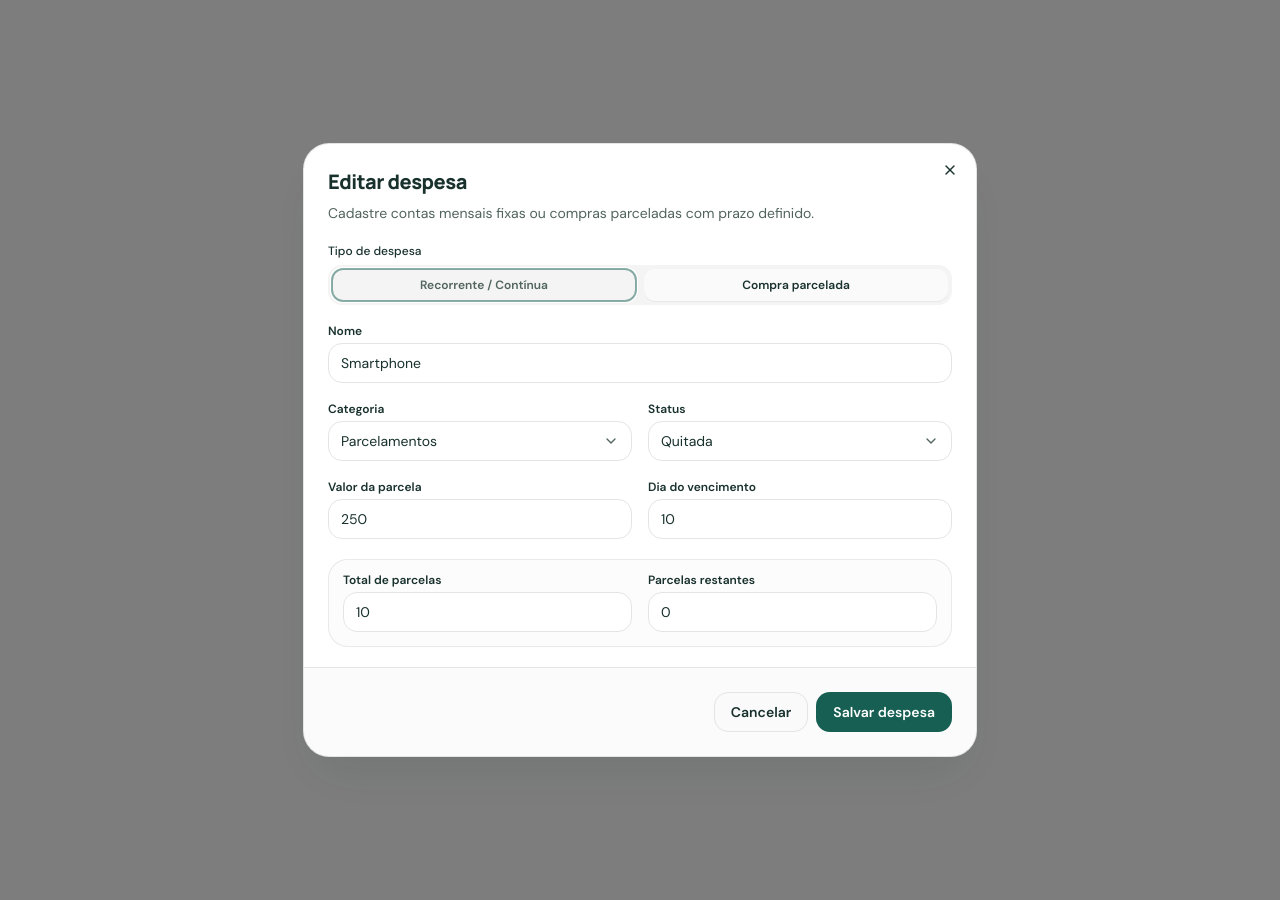
Test case: ExpenseDialog › restaura o status para Ativa quando parcelas restantes aumenta de 0 para um valor maior
The image size is (1280, 900).
Expected: the dropdown named "Status" shows "Quitada", [648,421,952,461]
Step 1. Replace the text in the number field labelled "Parcelas restantes" with "3" → [792, 612], box [648,592,937,632]
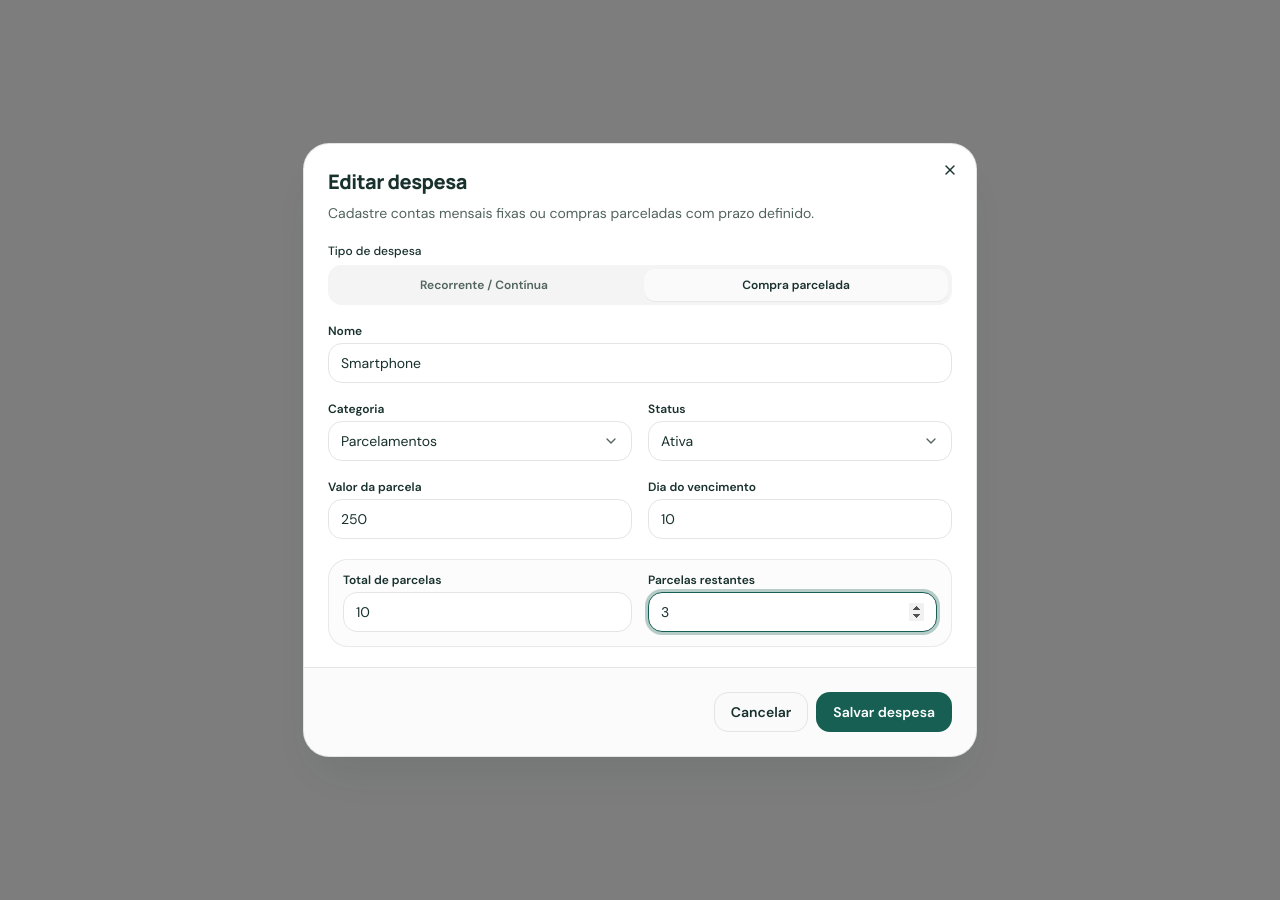
Expected: the dropdown named "Status" shows "Ativa", [648,421,952,461]
